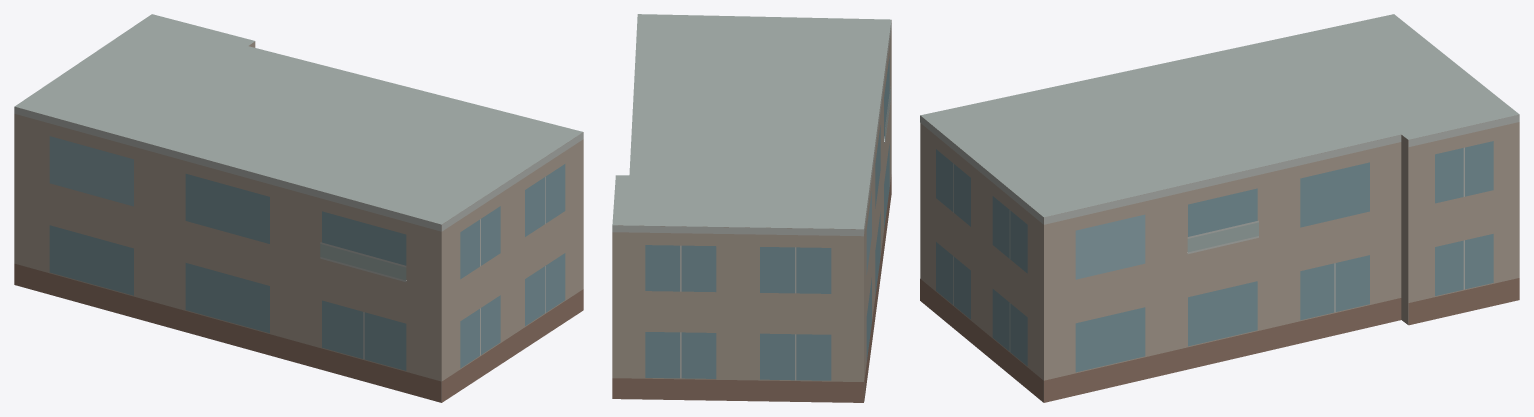
File: survey-upis-32656552.glb
The picture shows the model from 3 angles, left to right: view 1: azimuth 30°, elevation 25°; view 2: azimuth 150°, elevation 25°; view 3: azimuth 270°, elevation 25°; orthographic projection. The views are drawn at different scales.
Visible parts, largest first — view 1: survey-upis-32656552.tmp; view 2: survey-upis-32656552.tmp; view 3: survey-upis-32656552.tmp.
Boxes of the visible parts, bbox=[...] form: survey-upis-32656552.tmp: bbox=[14, 14, 583, 402]; survey-upis-32656552.tmp: bbox=[612, 14, 891, 402]; survey-upis-32656552.tmp: bbox=[920, 14, 1519, 402].
Size of the model in its own units: 14.36 by 6.1 by 17.88.
